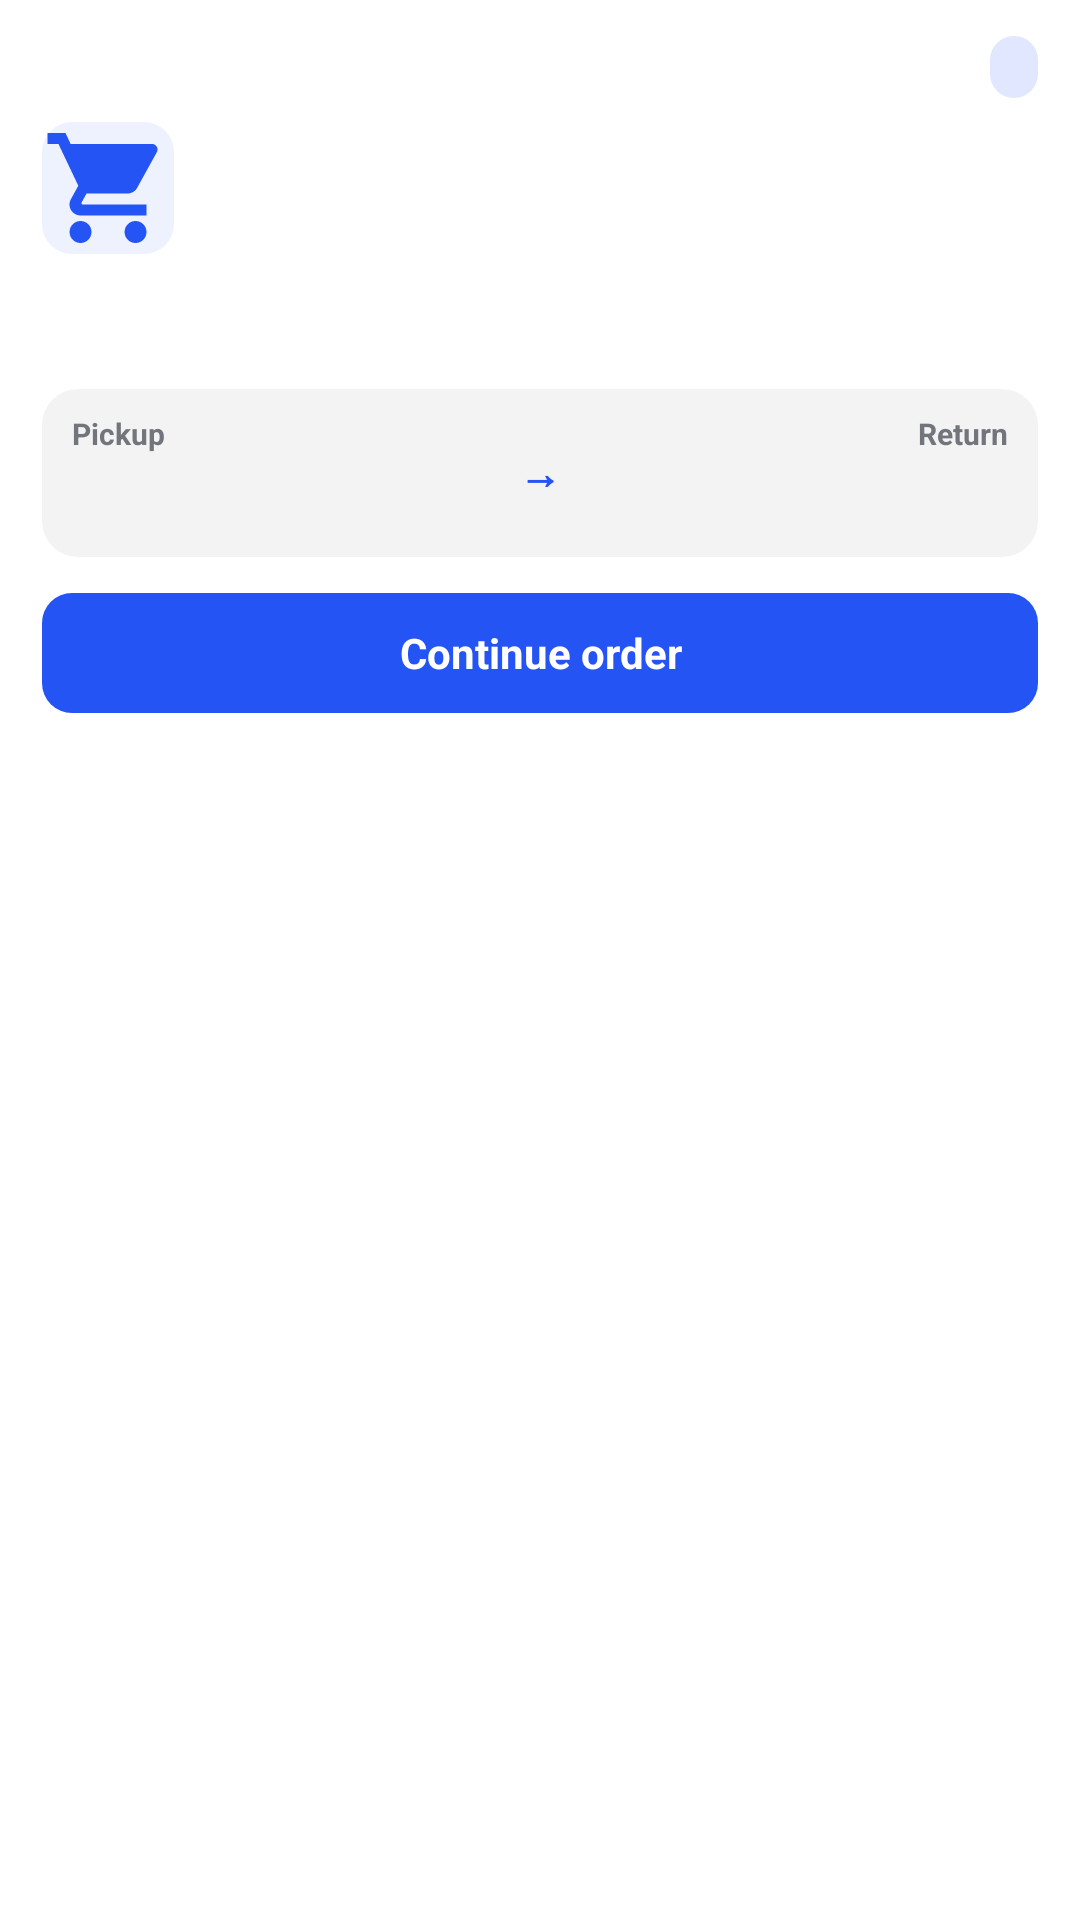

Point at icon controls on the screen. Image size 1080w x 1920h, points as (x=x, y=y).
product: (x=108, y=188)
